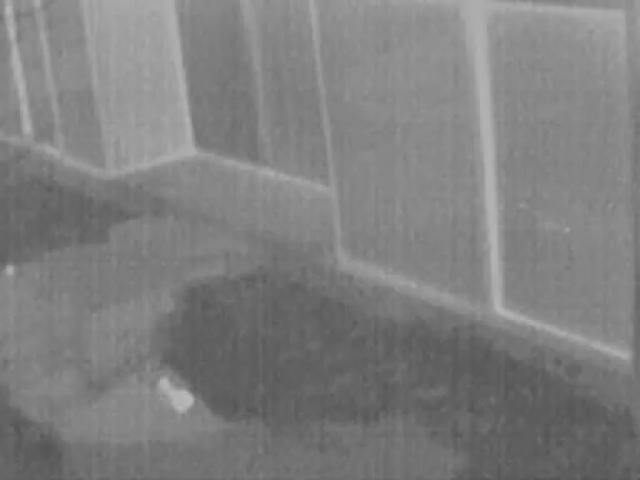dog: (155, 374, 195, 424)
